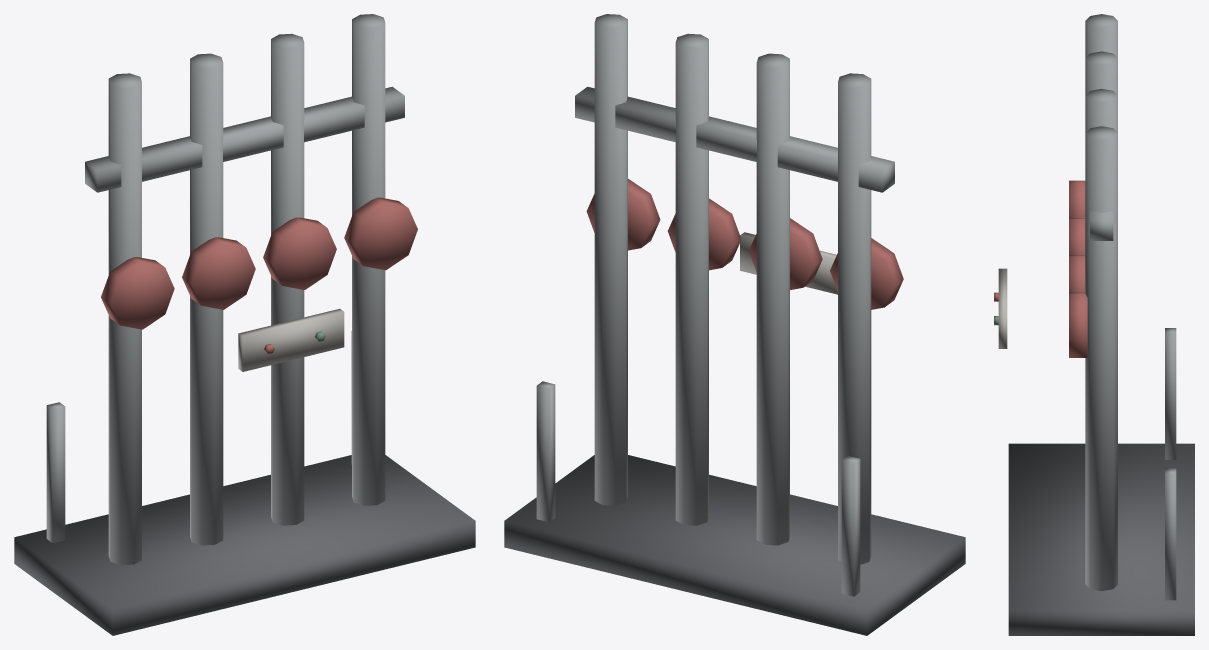
Rendered from steam_manifold__reinforced.glb.
3 renders of one model, left to right at view 1: azimuth 30°, elevation 25°; view 2: azimuth 150°, elevation 25°; view 3: azimuth 270°, elevation 25°, orthographic. The views are drawn at different scales.
Visible parts, largest first — view 1: world; view 2: world; view 3: world.
Part boxes in pixels (left/top/right/bottom): world: left=14, top=14, right=475, bottom=635; world: left=504, top=14, right=965, bottom=635; world: left=994, top=14, right=1194, bottom=635.
Size of the model in its own units: 0.8755 by 1.16 by 0.4439.
